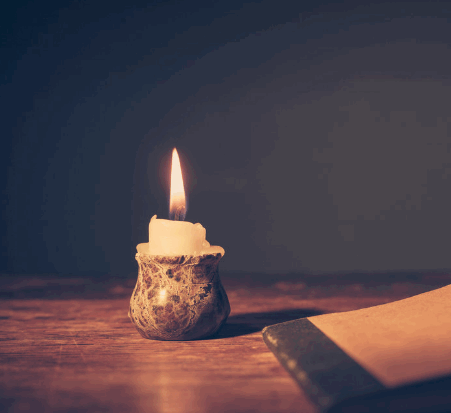Fire: (157, 138, 192, 215)
